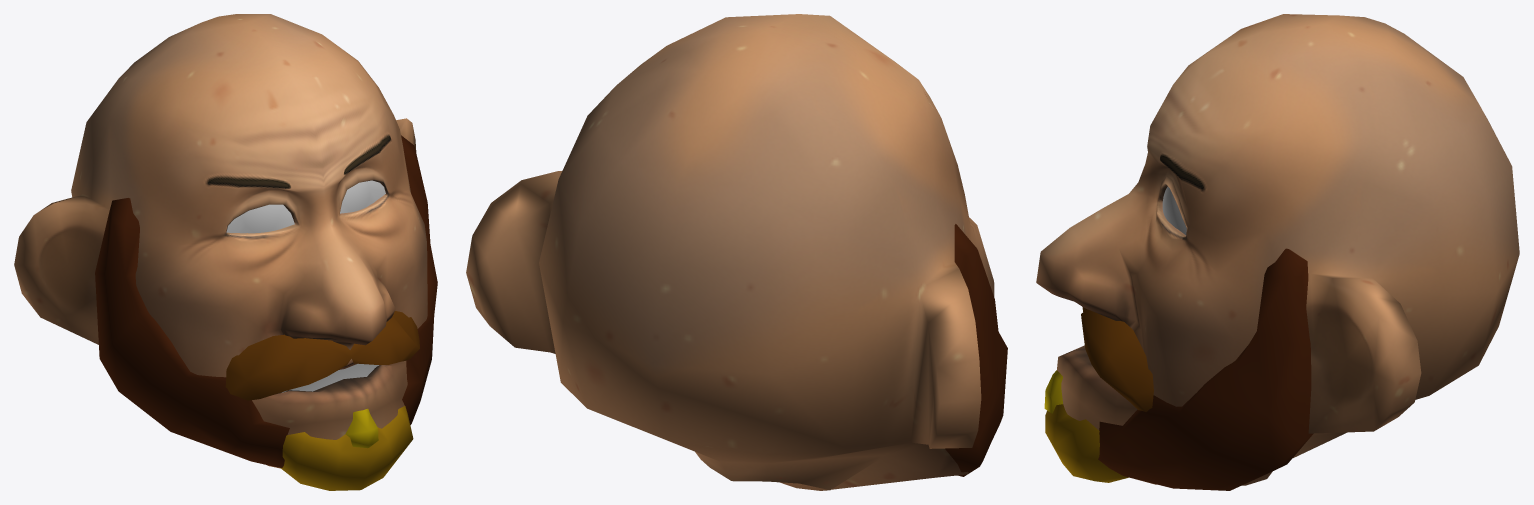
Rendered from E_pose02.fbx.
The picture shows the model from 3 angles, left to right: view 1: azimuth 30°, elevation 25°; view 2: azimuth 150°, elevation 25°; view 3: azimuth 270°, elevation 25°; orthographic projection. The views are drawn at different scales.
Parts seen in each view (by area): view 1: HEAD, BEARD; view 2: HEAD, BEARD; view 3: HEAD, BEARD.
Part boxes in pixels (x1=…): HEAD: x1=14, y1=14, x2=427, y2=468; BEARD: x1=95, y1=135, x2=437, y2=490; HEAD: x1=466, y1=14, x2=994, y2=490; BEARD: x1=945, y1=224, x2=1007, y2=476; HEAD: x1=1036, y1=14, x2=1519, y2=485; BEARD: x1=1044, y1=248, x2=1313, y2=490.
Size of the model in its own units: 27.45 by 25.39 by 24.9.
